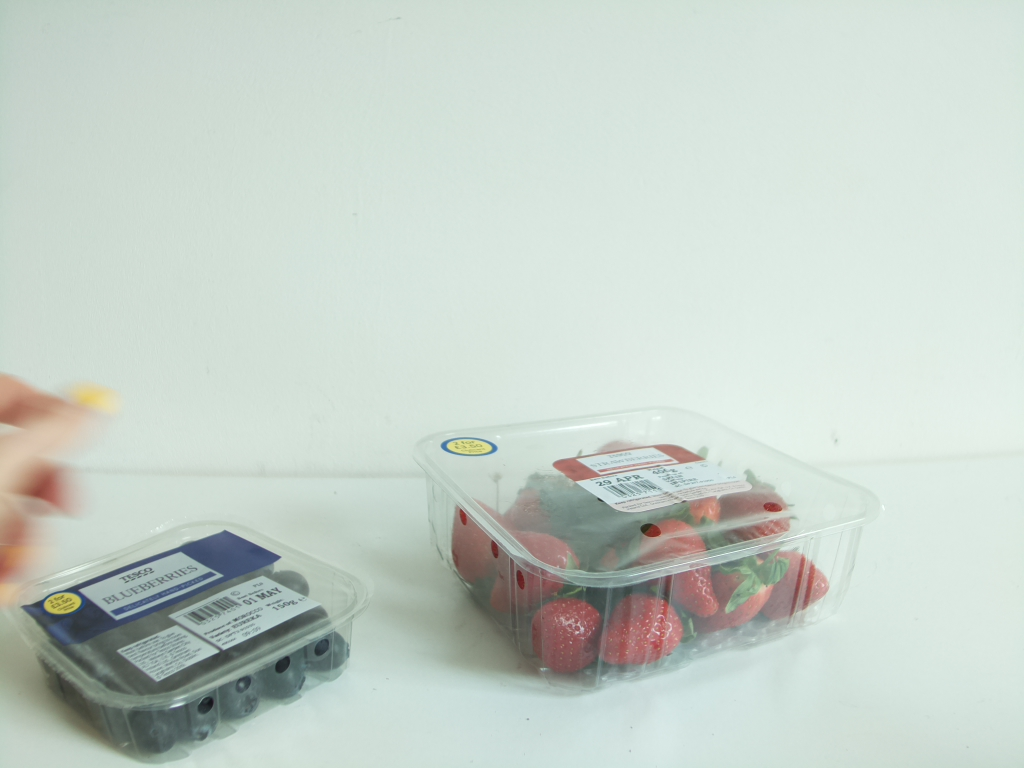soft-fruit: (417, 414, 873, 691), (12, 531, 361, 761)
